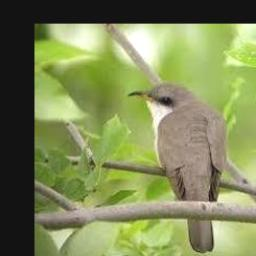Cuckoo: (127, 83, 230, 253)
